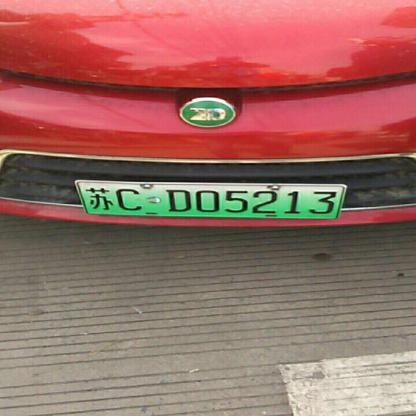lp: (76, 182, 344, 218)
